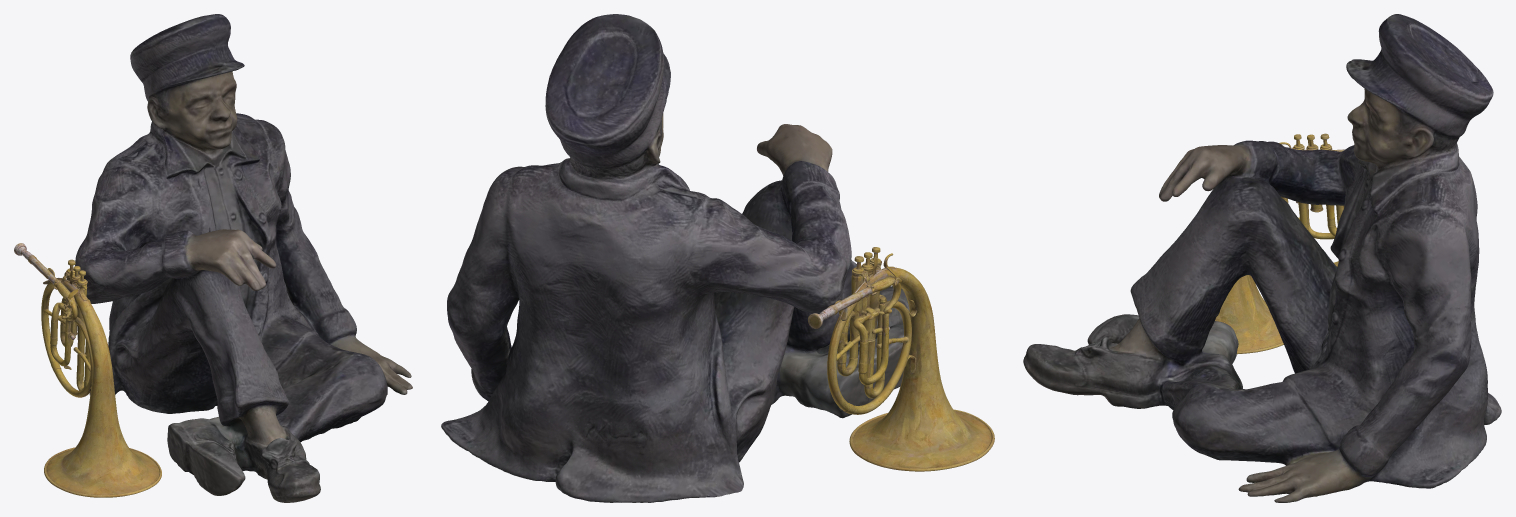
File: khanna-seated-bandsman-with-horn.glb
3 renders of one model, left to right at view 1: azimuth 30°, elevation 25°; view 2: azimuth 150°, elevation 25°; view 3: azimuth 270°, elevation 25°, orthographic. The views are drawn at different scales.
Visible parts, largest first — view 1: 12_Krishna_Khanna_For_Editng_Subs, mesh1; view 2: 12_Krishna_Khanna_For_Editng_Subs, mesh1; view 3: 12_Krishna_Khanna_For_Editng_Subs, mesh1.
Boxes of the visible parts, x1,y1,x2,y2 form: 12_Krishna_Khanna_For_Editng_Subs: (75, 14, 412, 502); mesh1: (14, 243, 161, 497); 12_Krishna_Khanna_For_Editng_Subs: (441, 14, 909, 502); mesh1: (808, 247, 994, 471); 12_Krishna_Khanna_For_Editng_Subs: (1023, 14, 1501, 502); mesh1: (1215, 133, 1344, 354).
Size of the model in its own units: 7.06 by 6.4 by 6.97.
Materials: 2 (2 with a texture image).
